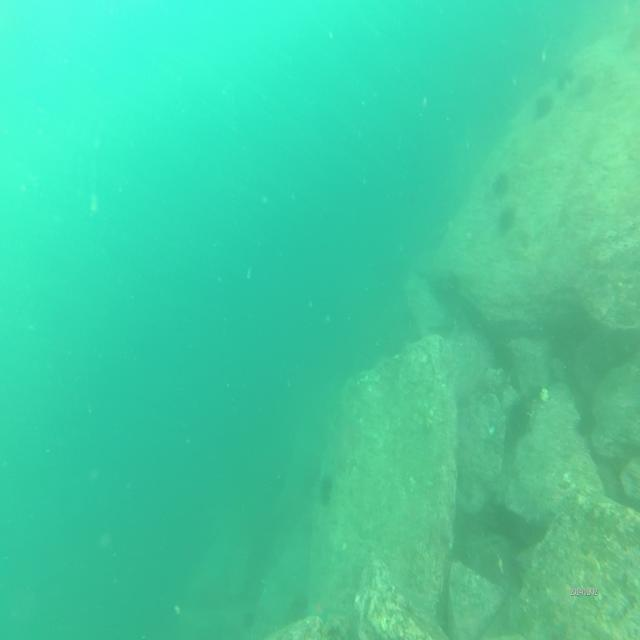echinus: (510, 395, 534, 438), (497, 202, 518, 236), (555, 64, 576, 90), (490, 172, 508, 202), (534, 92, 553, 120), (574, 410, 591, 440), (319, 476, 333, 510)
